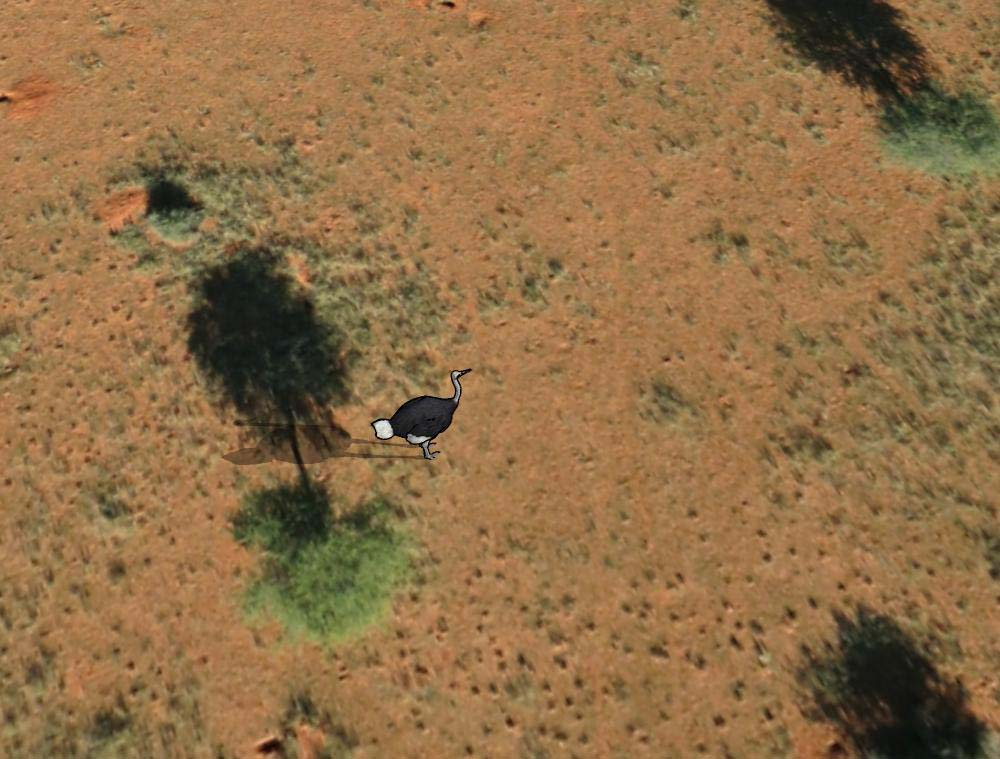ostrich: (364, 368, 474, 459)
